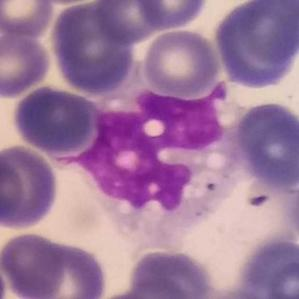Basophil: (210, 0, 299, 92)
Monocyte: (76, 59, 246, 247)
RBC: (48, 2, 140, 98), (211, 1, 299, 92), (10, 83, 99, 157), (231, 98, 299, 194), (140, 26, 223, 99), (20, 234, 110, 299), (0, 142, 61, 231), (124, 245, 216, 299), (0, 230, 68, 299), (229, 234, 298, 299), (0, 31, 53, 98), (92, 0, 166, 45), (133, 0, 210, 31), (85, 280, 203, 299), (0, 0, 56, 39), (0, 147, 26, 229), (0, 4, 20, 59), (287, 173, 299, 252), (31, 0, 112, 6)
